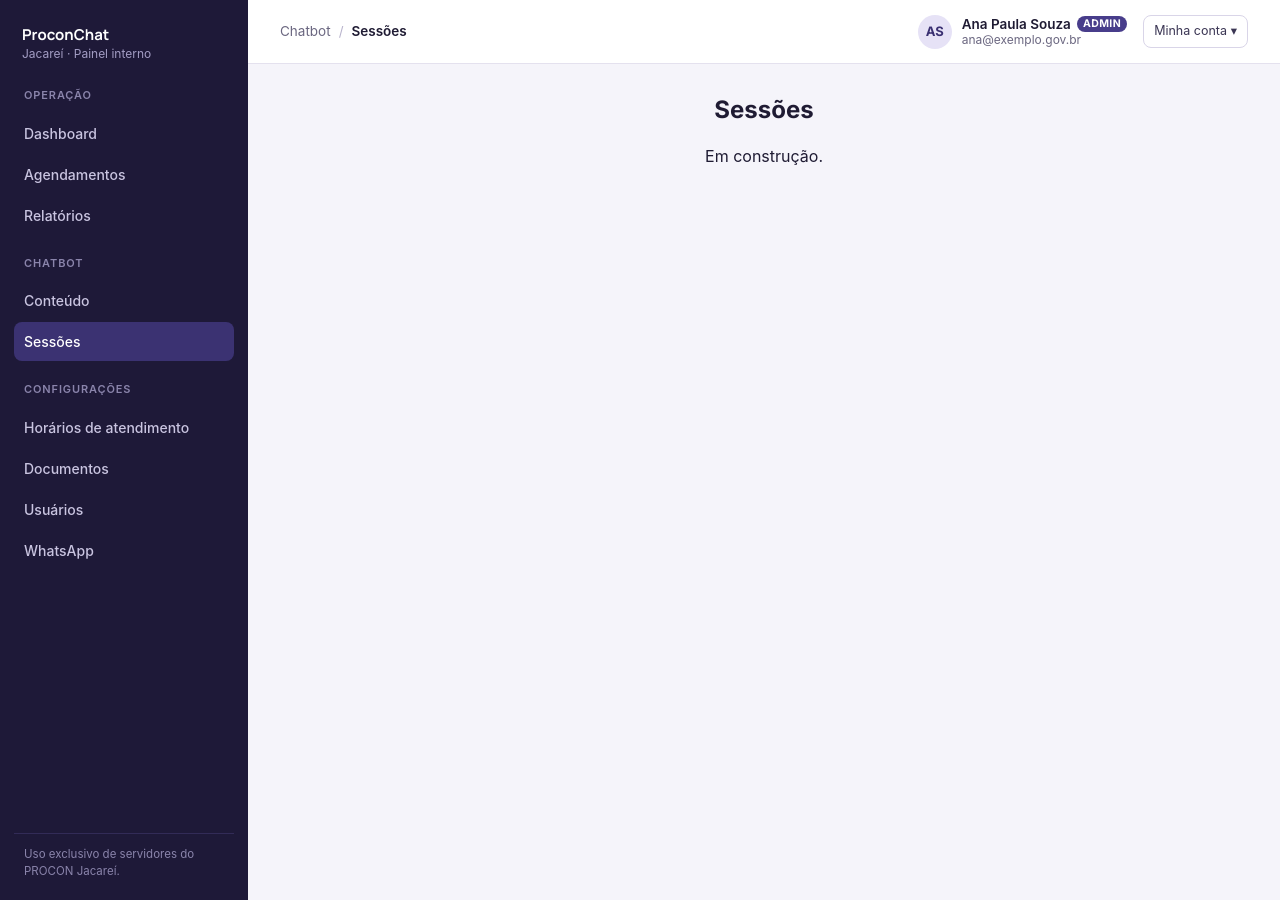
Test: PanelLayout › mostra Alterar minha senha e Sair no menu da conta
Expected: the text "Em construção." is shown, [705,144,823,168]
Click the button "Minha conta": (1196, 32) [1143,15,1248,48]
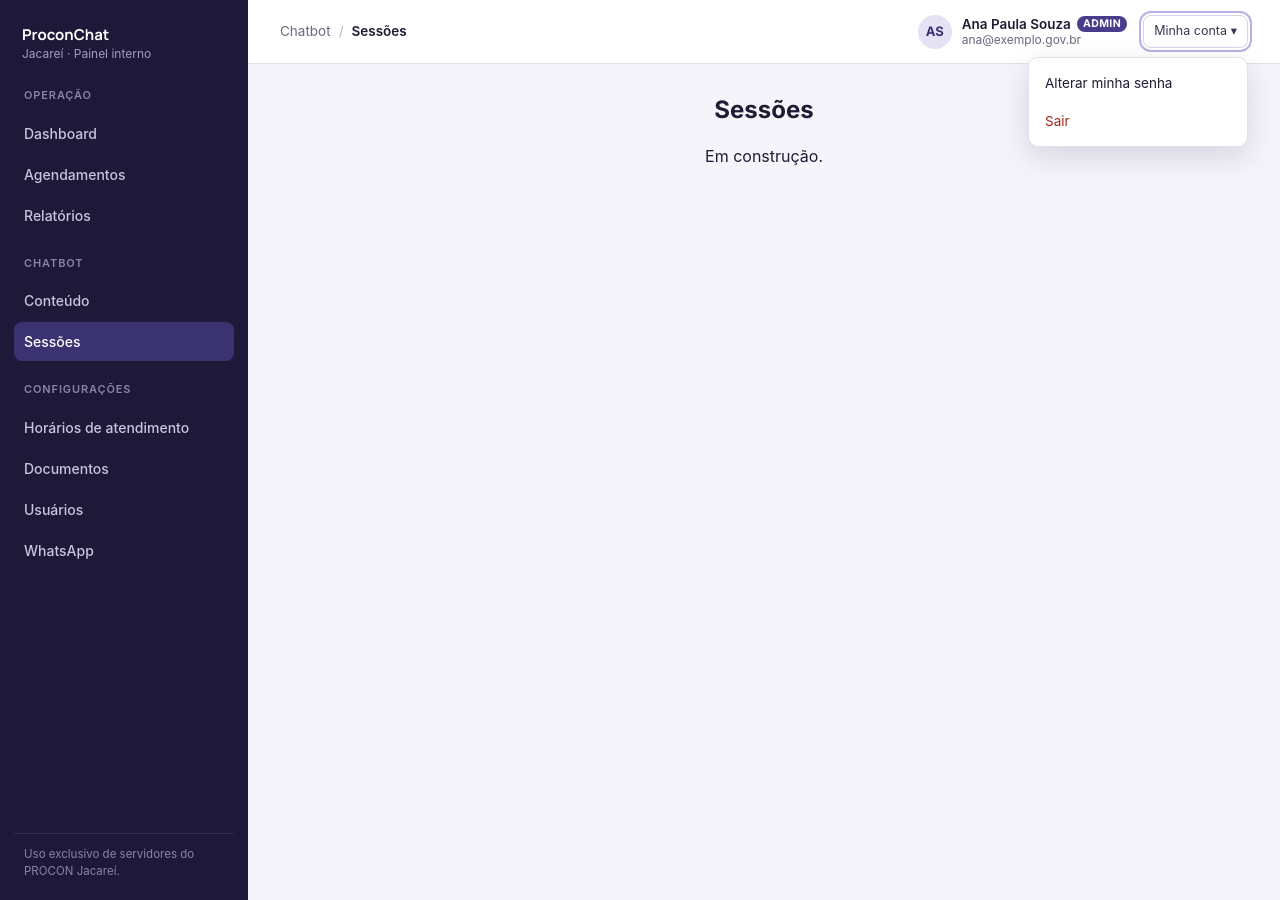
Expected: the button "Alterar minha senha" is shown, [1035,64,1241,102]
Expected: the button "Sair" is shown, [1035,102,1241,140]
